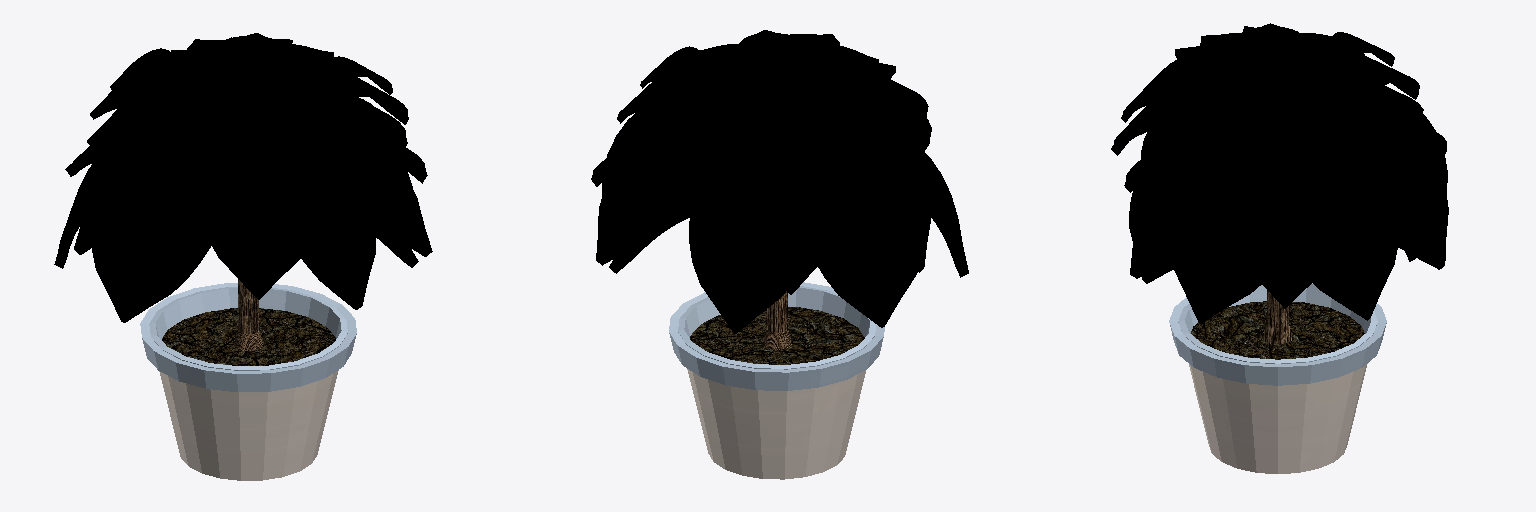
3 views of the same model, side by side, from view 1: azimuth 30°, elevation 25°; view 2: azimuth 150°, elevation 25°; view 3: azimuth 270°, elevation 25° (orthographic).
Parts seen in each view (by area): view 1: polySurface77; view 2: polySurface77; view 3: polySurface77.
Boxes of the visible parts, x1=… form: polySurface77: x1=54, y1=33, x2=432, y2=480; polySurface77: x1=591, y1=30, x2=968, y2=479; polySurface77: x1=1111, y1=23, x2=1448, y2=473.
Size of the model in its own units: 3.72 by 3.94 by 3.12.
4 materials, 3 textured.